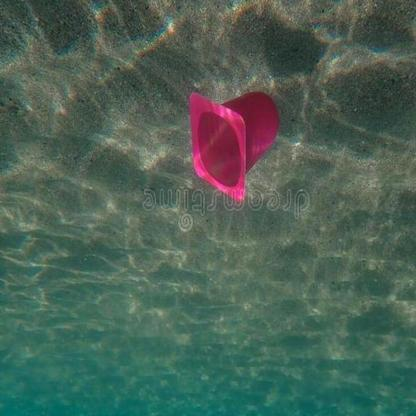plastic bottle: (184, 89, 280, 201)
